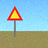sign: (7, 6, 23, 37)
